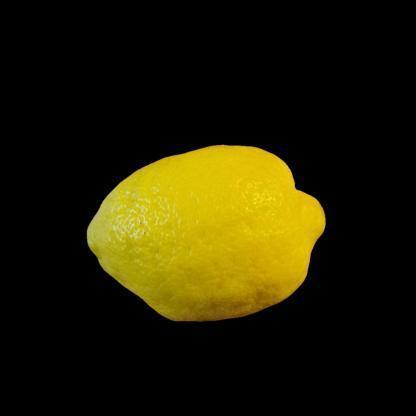lemon: (87, 143, 326, 322)
